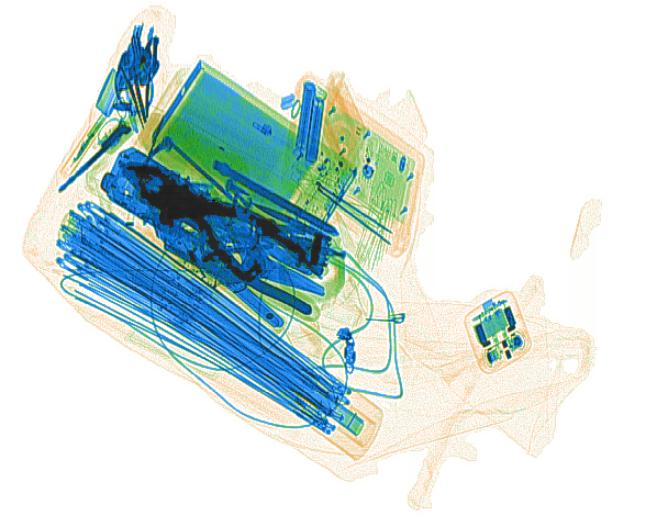battery: (291, 79, 324, 165)
